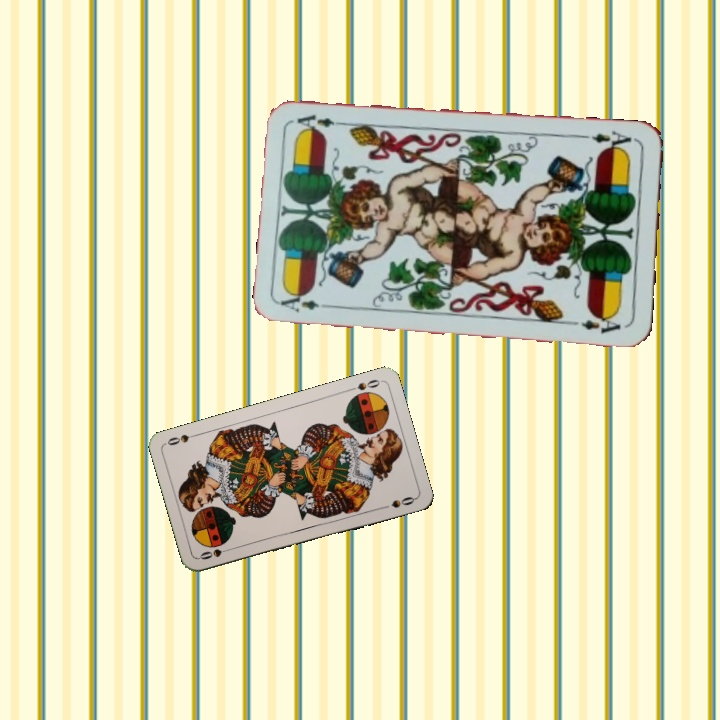EA: (580, 127, 639, 154), (277, 288, 336, 315)
SO: (344, 375, 383, 394), (196, 544, 236, 562)
